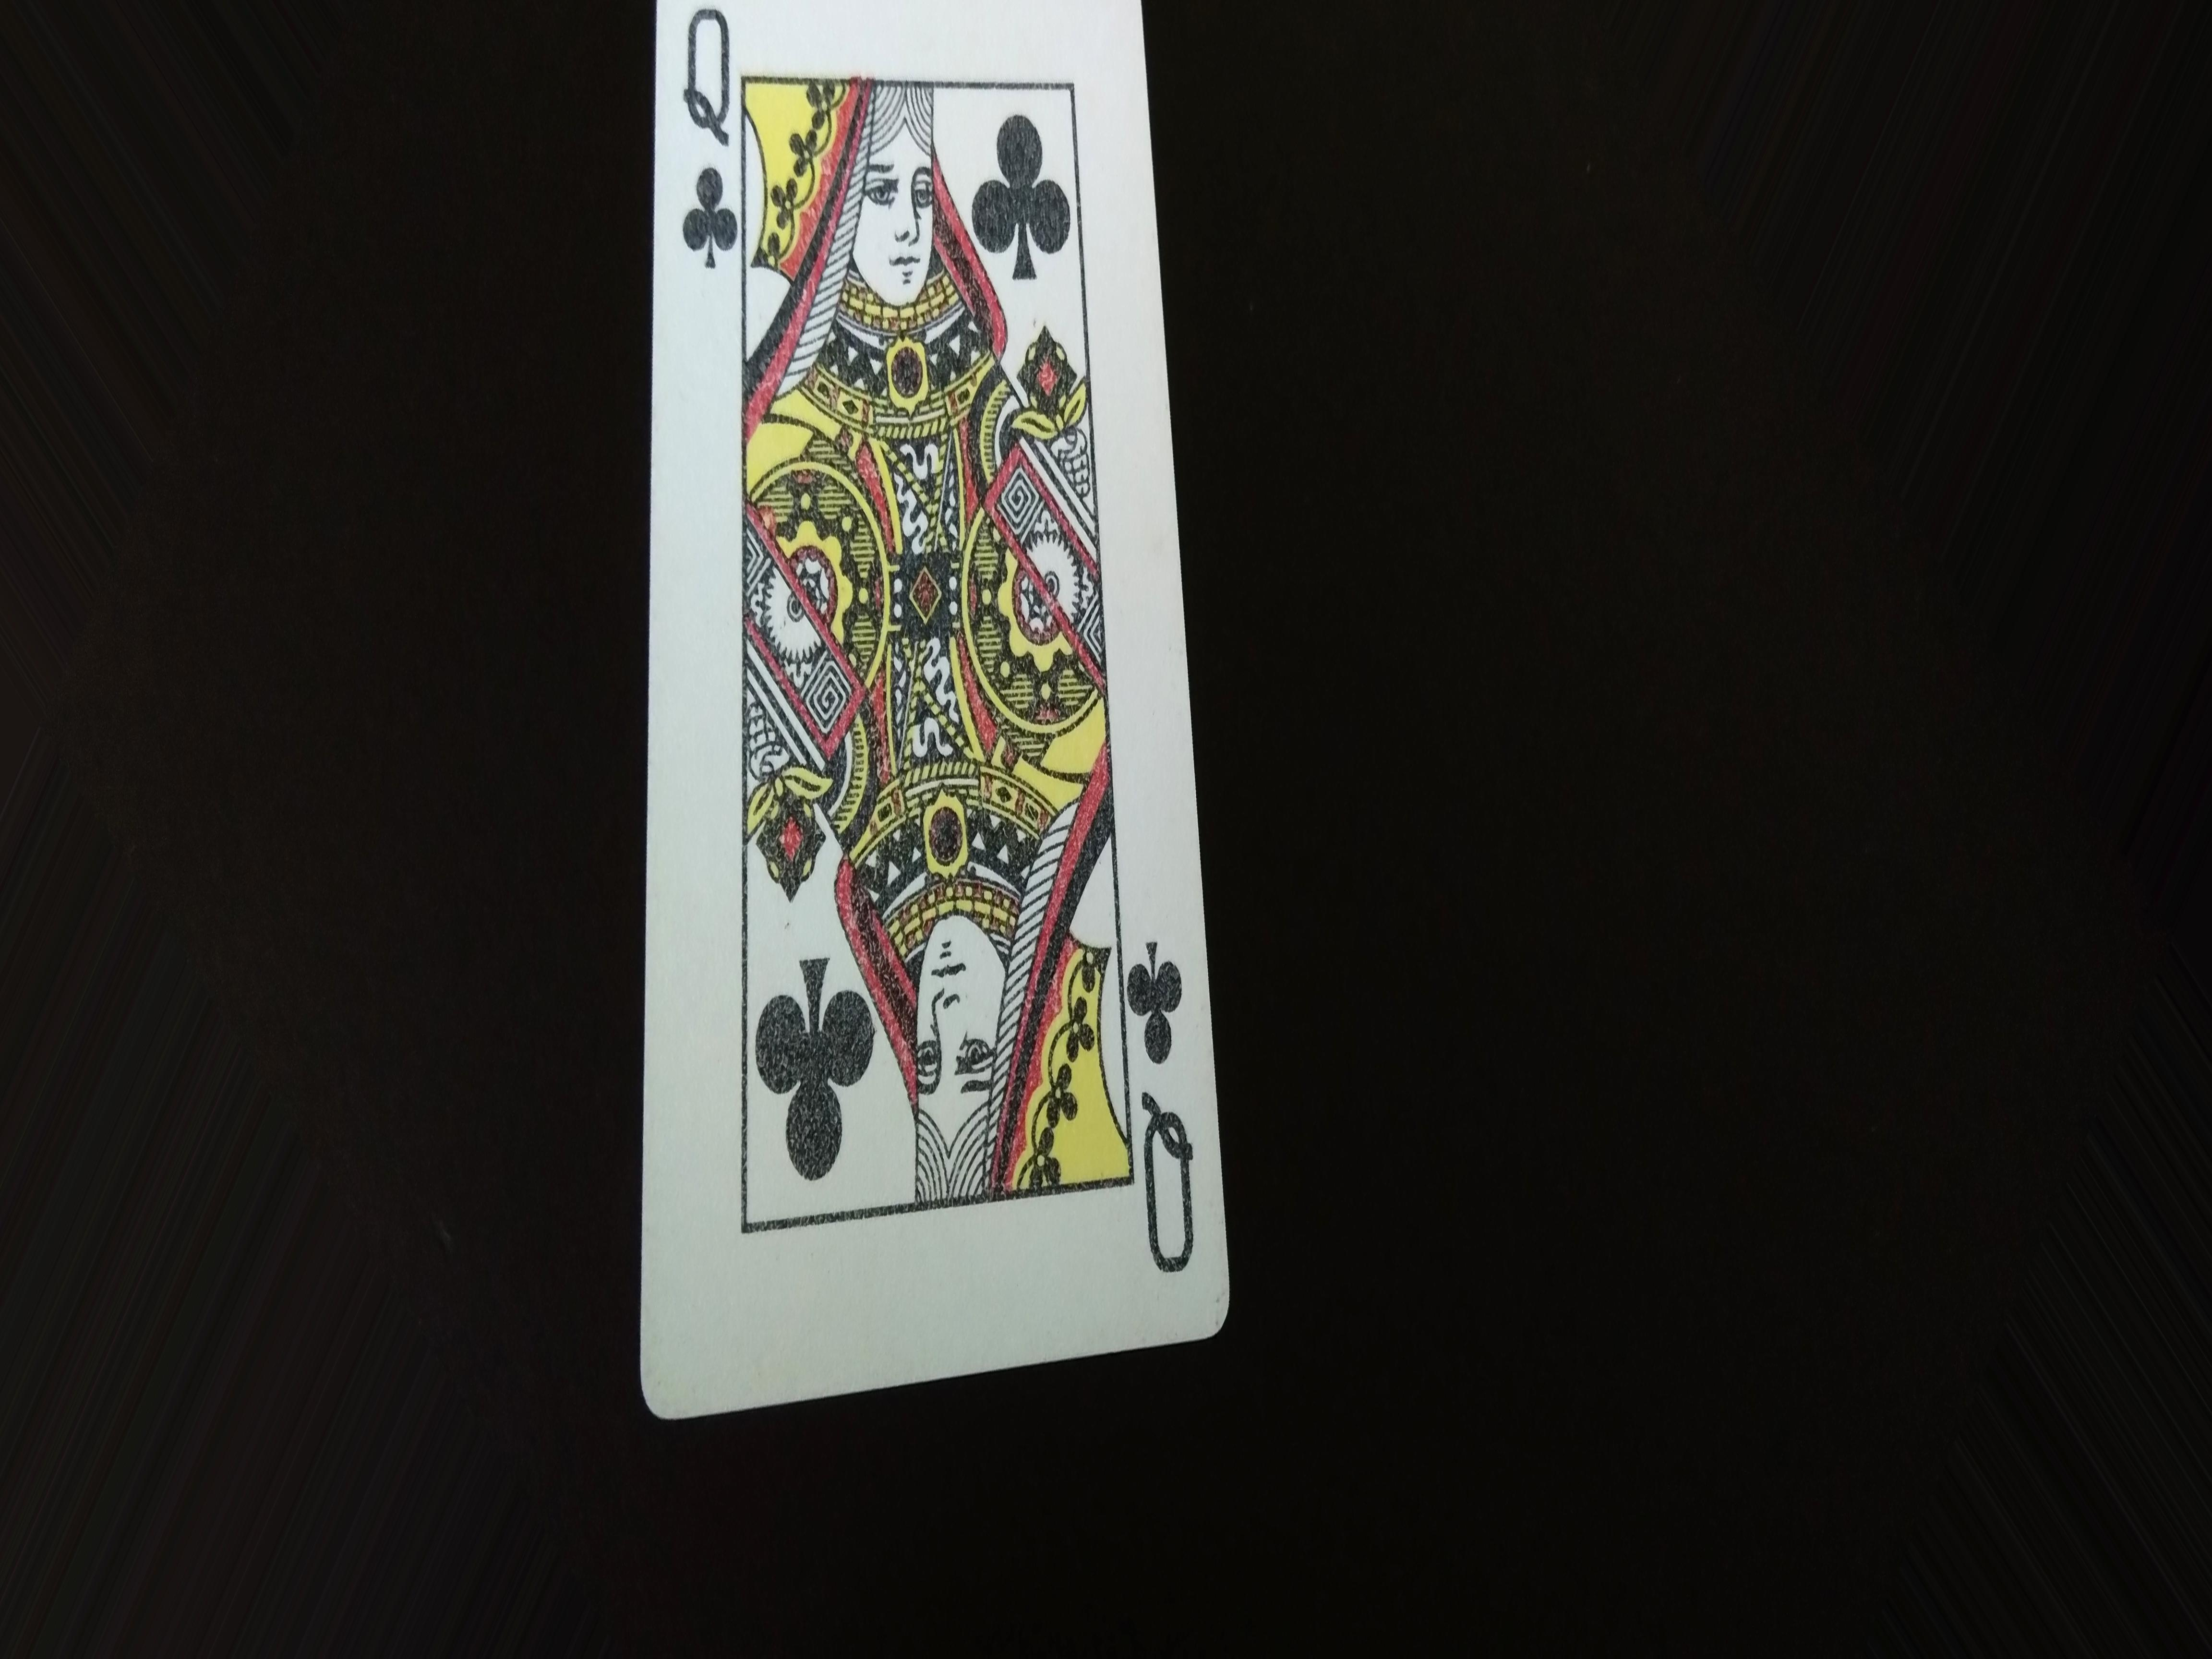QC: (1129, 948, 1211, 1281)
